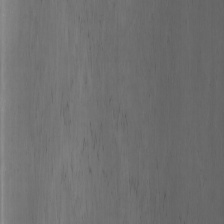silk_spot: (60, 18, 132, 202)
